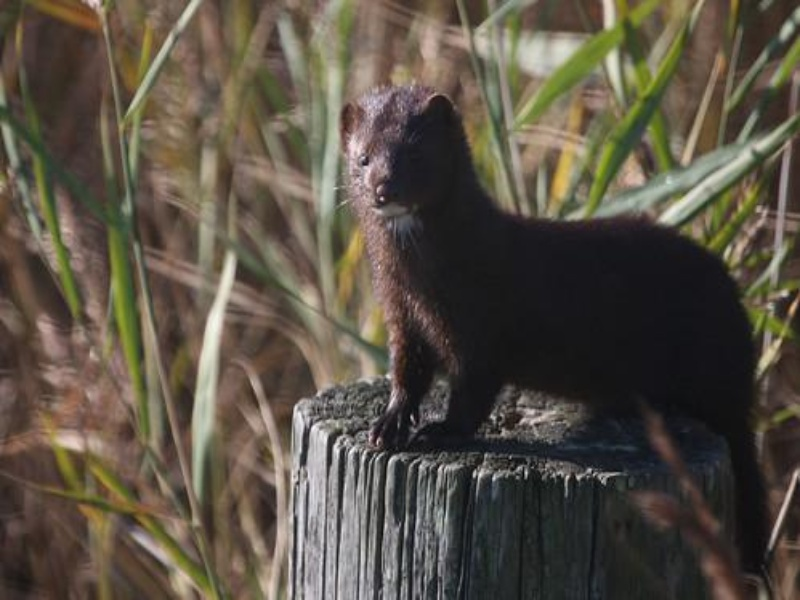minkish: (334, 81, 779, 575)
